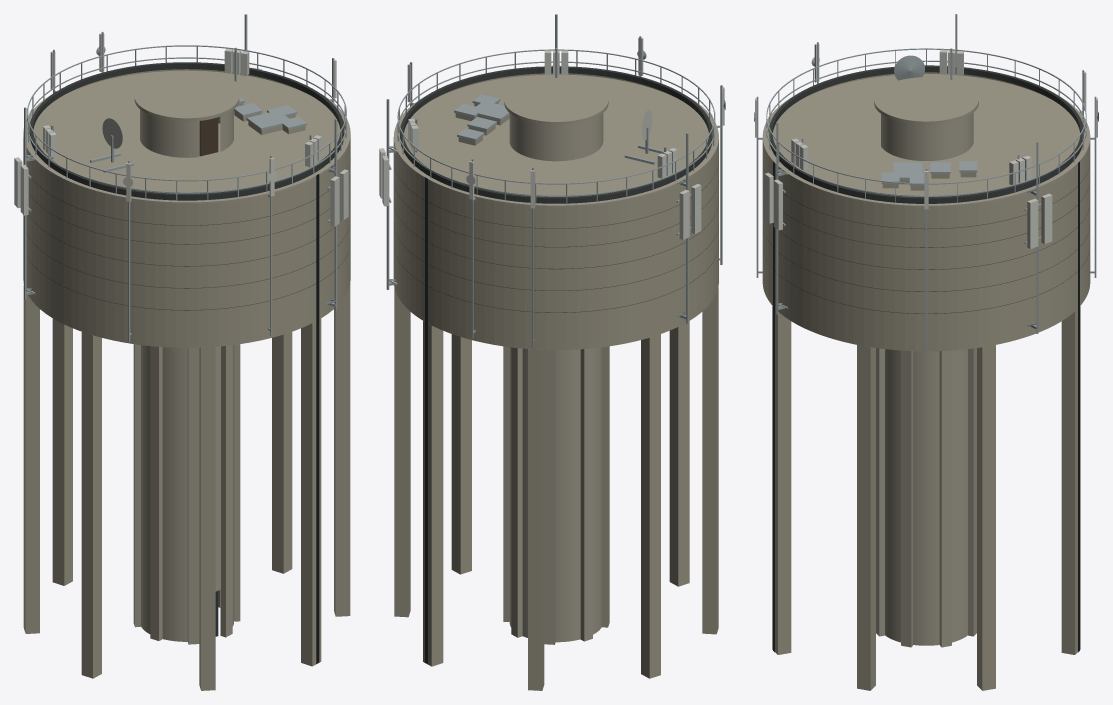
File: 7068-south-water-tower.obj
3 renders of one model, left to right at view 1: azimuth 30°, elevation 25°; view 2: azimuth 150°, elevation 25°; view 3: azimuth 270°, elevation 25°, orthographic.
Visible parts, largest first — view 1: tank_external_wall, roof_lid, central_shaft, perimeter_column_5, perimeter_column_7, bottom_ring, perimeter_column_6, perimeter_column_4, perimeter_column_3, perimeter_column_8, perimeter_column_1, perimeter_cable_tray (+16 smaller); view 2: tank_external_wall, roof_lid, central_shaft, perimeter_column_4, bottom_ring, perimeter_column_2, perimeter_column_3, perimeter_column_5, perimeter_column_6, perimeter_column_1, perimeter_column_8, perimeter_cable_tray (+16 smaller); view 3: tank_external_wall, roof_lid, central_shaft, bottom_ring, perimeter_column_1, perimeter_column_8, perimeter_column_2, perimeter_column_7, perimeter_cable_tray, core_cap, inner_projection_1, inner_projection_8 (+12 smaller).
Boxes of the visible parts, bbox=[...] form: tank_external_wall: bbox=[23, 143, 350, 327]; roof_lid: bbox=[23, 70, 350, 210]; central_shaft: bbox=[141, 345, 233, 641]; perimeter_column_5: bbox=[81, 332, 101, 678]; perimeter_column_7: bbox=[301, 318, 321, 666]; bottom_ring: bbox=[23, 261, 350, 347]; perimeter_column_6: bbox=[199, 347, 215, 690]; perimeter_column_4: bbox=[23, 285, 39, 633]; perimeter_column_3: bbox=[52, 318, 72, 585]; perimeter_column_8: bbox=[334, 284, 350, 616]; perimeter_column_1: bbox=[272, 332, 292, 573]; perimeter_cable_tray: bbox=[29, 62, 344, 200]; tank_external_wall: bbox=[393, 145, 718, 330]; roof_lid: bbox=[393, 74, 718, 213]; central_shaft: bbox=[509, 347, 601, 642]; perimeter_column_4: bbox=[641, 334, 660, 678]; bottom_ring: bbox=[393, 262, 718, 349]; perimeter_column_2: bbox=[423, 321, 443, 666]; perimeter_column_3: bbox=[528, 349, 544, 690]; perimeter_column_5: bbox=[702, 287, 718, 634]; perimeter_column_6: bbox=[669, 321, 689, 586]; perimeter_column_1: bbox=[394, 287, 410, 617]; perimeter_column_8: bbox=[451, 334, 471, 574]; perimeter_cable_tray: bbox=[400, 66, 712, 203]; tank_external_wall: bbox=[762, 147, 1090, 331]; roof_lid: bbox=[762, 73, 1090, 213]; central_shaft: bbox=[885, 349, 967, 645]; bottom_ring: bbox=[762, 265, 1090, 351]; perimeter_column_1: bbox=[977, 345, 995, 690]; perimeter_column_8: bbox=[857, 345, 875, 690]; perimeter_column_2: bbox=[1061, 306, 1080, 654]; perimeter_column_7: bbox=[772, 306, 791, 654]; perimeter_cable_tray: bbox=[769, 65, 1083, 203]; core_cap: bbox=[874, 77, 978, 124]; inner_projection_1: bbox=[939, 350, 951, 647]; inner_projection_8: bbox=[901, 350, 913, 647].
Bounding box in the file's own units: 14.41 × 24.5 × 14.18.
